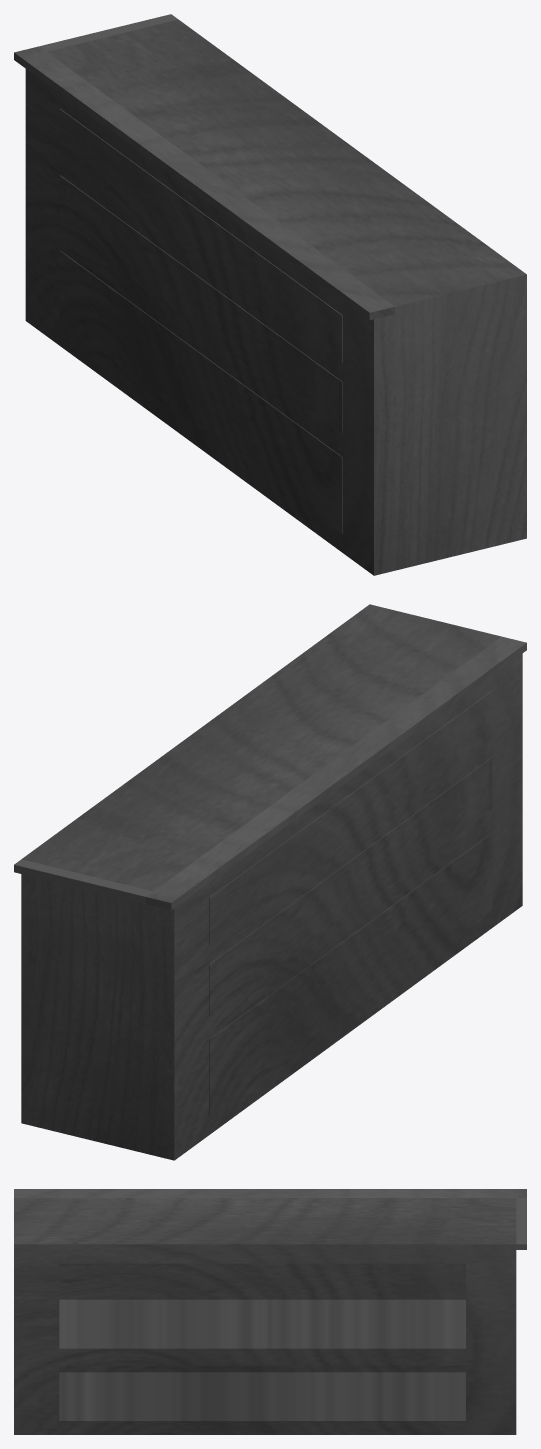
Rendered from ReceptionDesk.fbx.
The picture shows the model from 3 angles, top to bottom: view 1: azimuth 30°, elevation 25°; view 2: azimuth 150°, elevation 25°; view 3: azimuth 270°, elevation 25°; orthographic projection. The views are drawn at different scales.
Parts seen in each view (by area): view 1: ReceptionDesk; view 2: ReceptionDesk; view 3: ReceptionDesk.
Part boxes in pixels (box(x1,y1,x2,y2)): ReceptionDesk: box(14, 14, 526, 575); ReceptionDesk: box(14, 604, 526, 1160); ReceptionDesk: box(14, 1189, 526, 1434).
Size of the model in its own units: 2.26 by 3.62 by 8.85.
